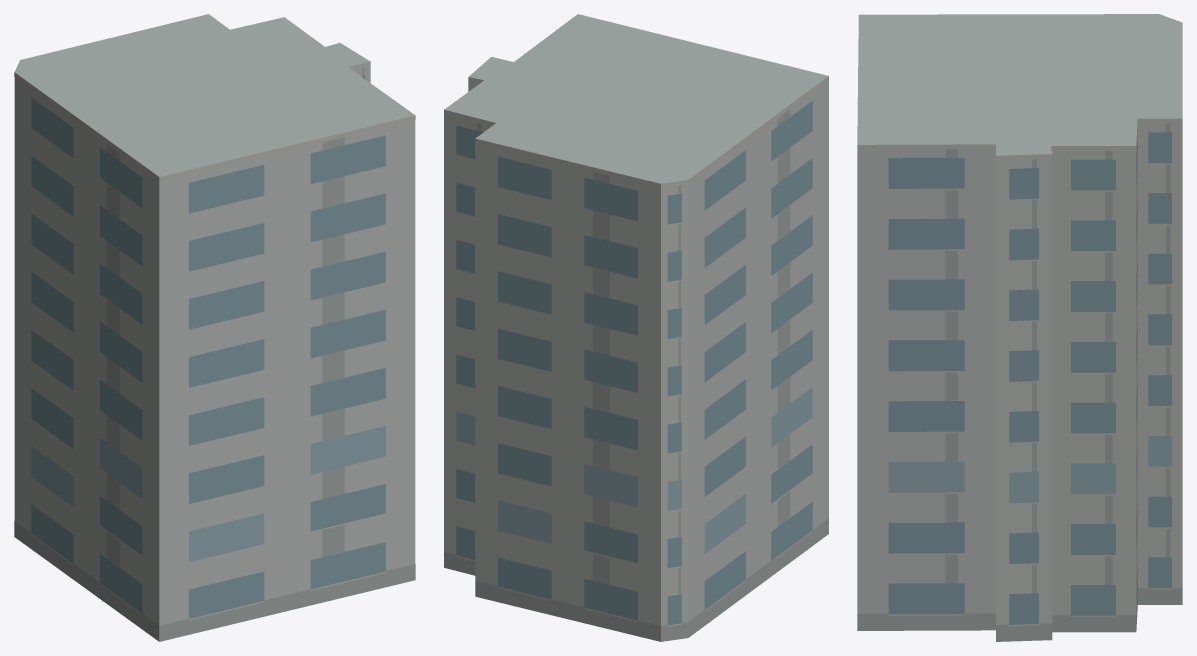
The model's file is survey-upis-33027810.glb.
3 renders of one model, left to right at view 1: azimuth 30°, elevation 25°; view 2: azimuth 150°, elevation 25°; view 3: azimuth 270°, elevation 25°, orthographic. The views are drawn at different scales.
Parts seen in each view (by area): view 1: survey-upis-33027810.tmp; view 2: survey-upis-33027810.tmp; view 3: survey-upis-33027810.tmp.
Part boxes in pixels (x1,y1,x2,y2): survey-upis-33027810.tmp: [14, 14, 415, 641]; survey-upis-33027810.tmp: [444, 14, 828, 641]; survey-upis-33027810.tmp: [857, 14, 1182, 641].
Size of the model in its own units: 15.02 by 23.98 by 14.56.
